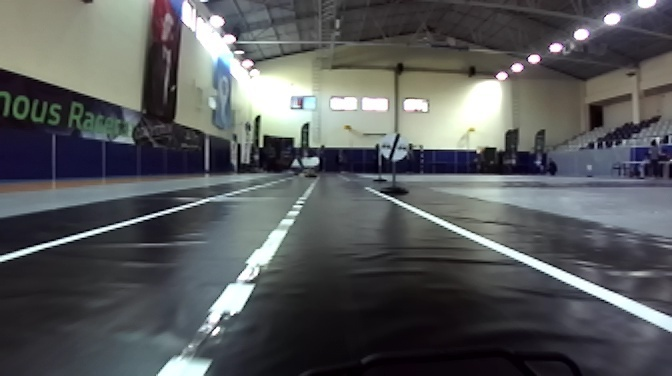sollama_serbest: (378, 132, 408, 162)
